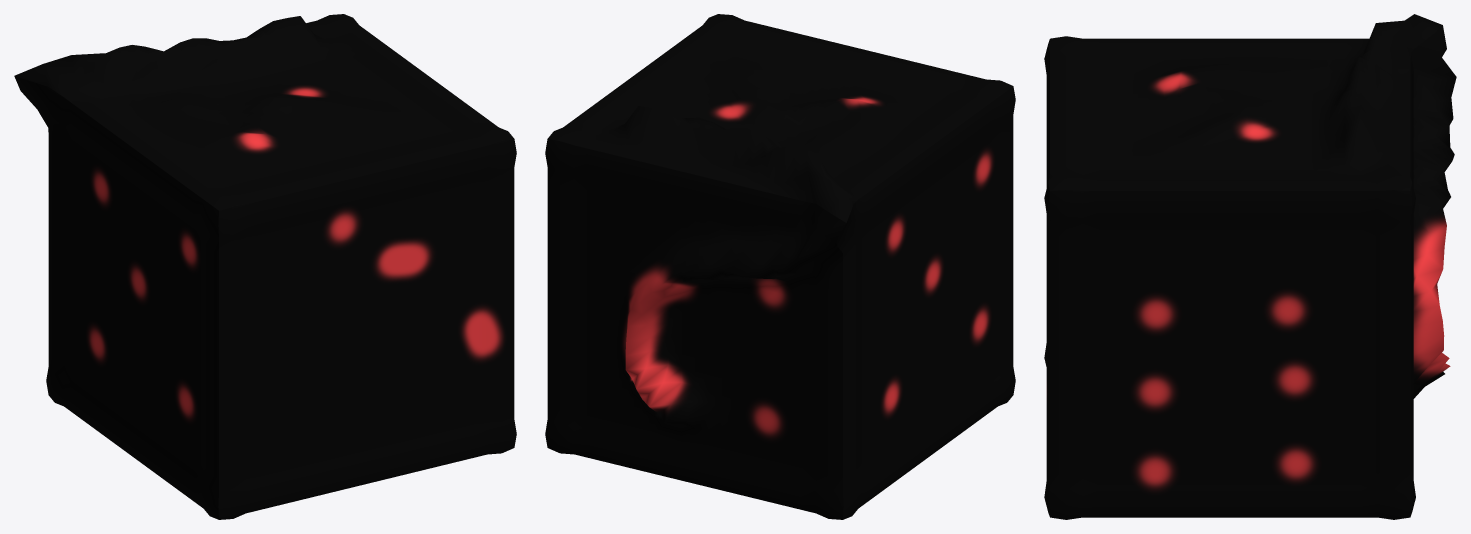
Rendered from retard_cube.glb.
The picture shows the model from 3 angles, left to right: view 1: azimuth 30°, elevation 25°; view 2: azimuth 150°, elevation 25°; view 3: azimuth 270°, elevation 25°; orthographic projection. The views are drawn at different scales.
Parts seen in each view (by area): view 1: Cube_Cube.001; view 2: Cube_Cube.001; view 3: Cube_Cube.001.
Part boxes in pixels (x1=…): Cube_Cube.001: x1=14, y1=14, x2=516, y2=519; Cube_Cube.001: x1=545, y1=14, x2=1015, y2=519; Cube_Cube.001: x1=1044, y1=14, x2=1456, y2=519.
Size of the model in its own units: 2.16 by 2.27 by 2.29.
Materials: 1 (1 with a texture image).
